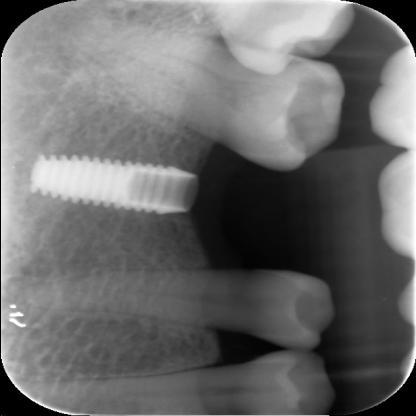Bicon: (26, 134, 206, 238)
